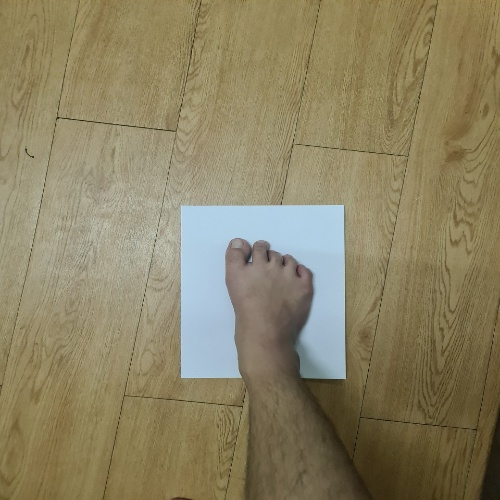Top_Foot: (224, 240, 311, 376)
